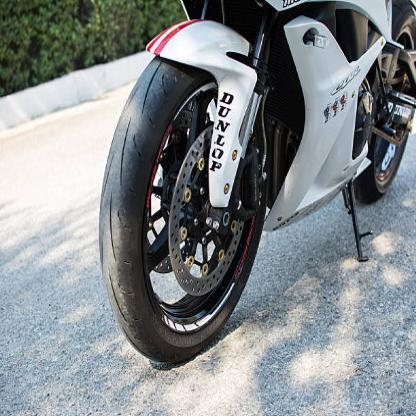Motorcycle: (85, 0, 415, 363)
